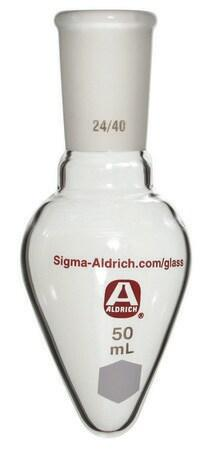Pear shaped flask: (10, 10, 190, 434)
